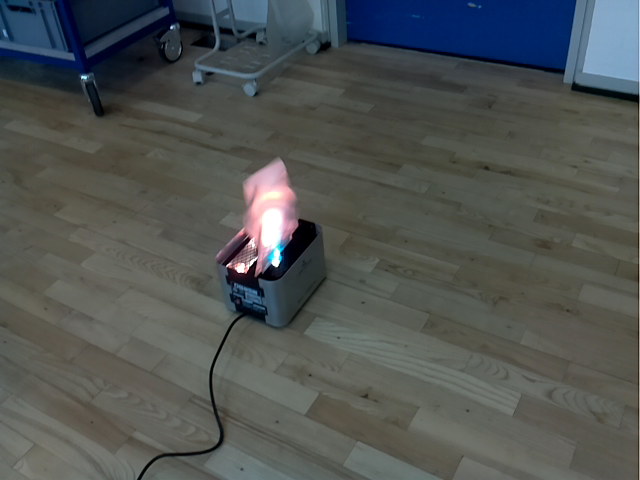fire: (243, 155, 299, 278)
